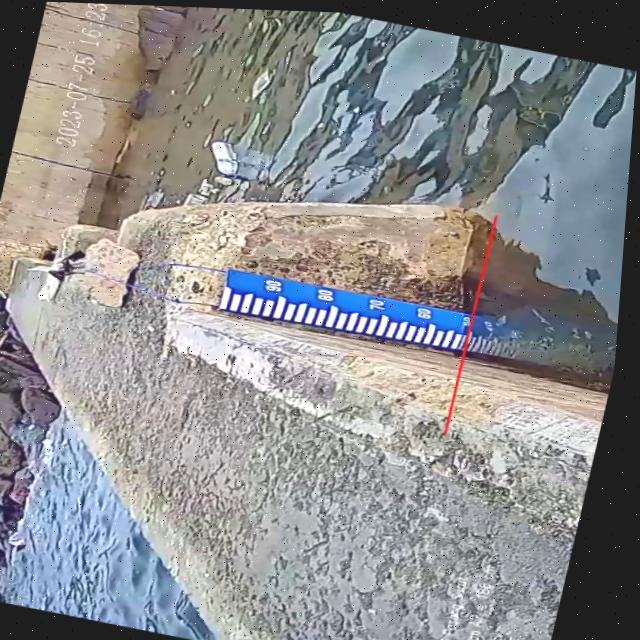water-meter: (205, 259, 539, 375)
